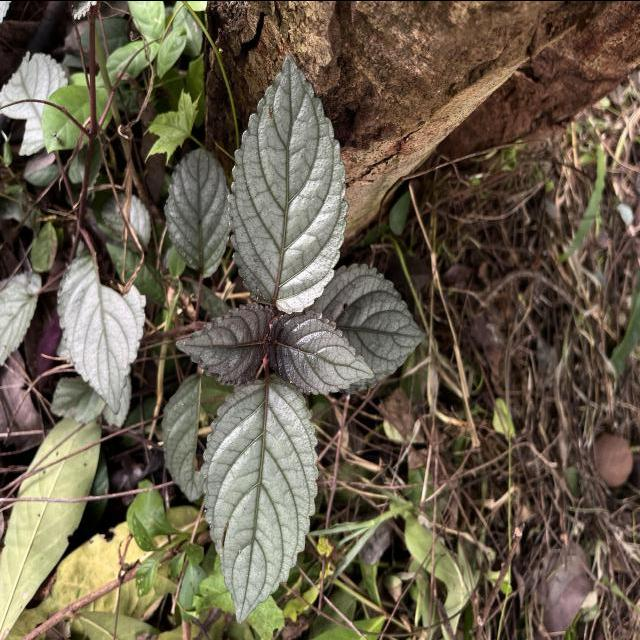Hemigraphis colorata: (226, 49, 352, 317), (198, 371, 321, 627), (54, 246, 148, 417), (329, 261, 429, 398), (267, 306, 378, 399), (162, 144, 234, 286), (173, 298, 274, 391)
